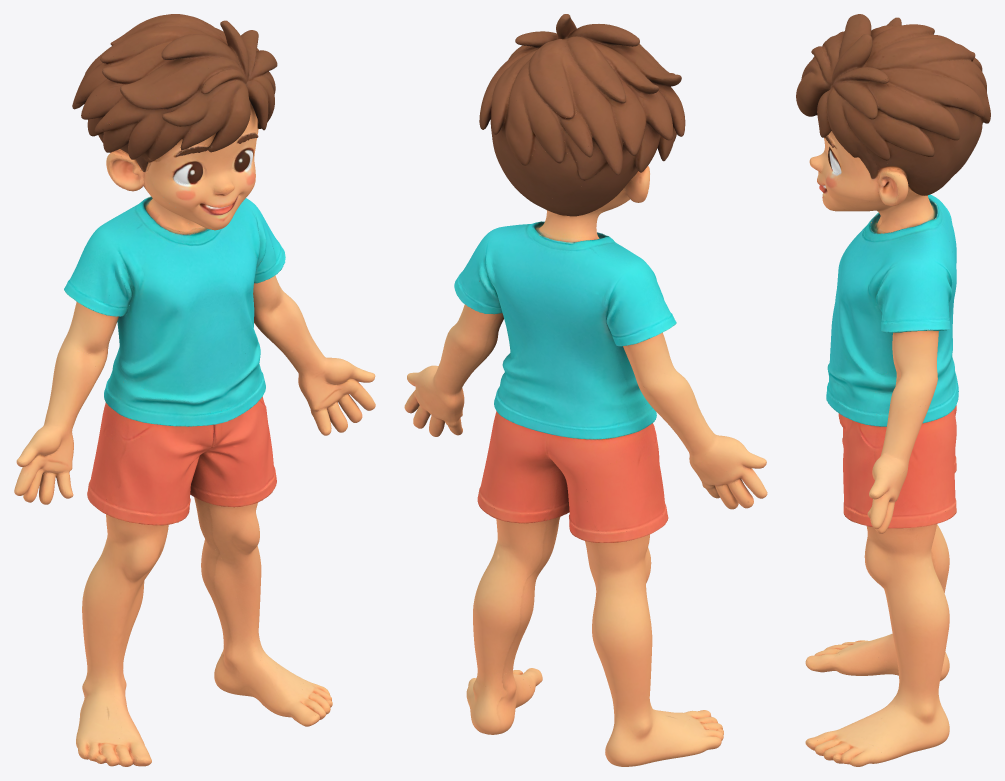
Rendered from cuerpo-v1.glb.
The picture shows the model from 3 angles, left to right: view 1: azimuth 30°, elevation 25°; view 2: azimuth 150°, elevation 25°; view 3: azimuth 270°, elevation 25°; orthographic projection. The views are drawn at different scales.
Visible parts, largest first — view 1: model; view 2: model; view 3: model.
Boxes of the visible parts, x1=… form: model: x1=14, y1=14, x2=375, y2=766; model: x1=404, y1=14, x2=767, y2=766; model: x1=796, y1=14, x2=990, y2=766.
Size of the model in its own units: 0.9256 by 1.72 by 0.4415.
Materials: 1 (1 with a texture image).
